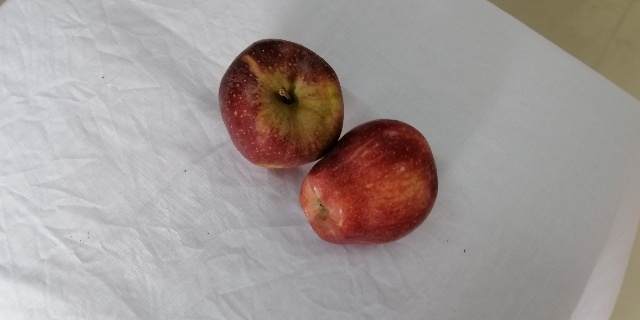apple_kashmir: (299, 119, 444, 247), (219, 38, 341, 169)
